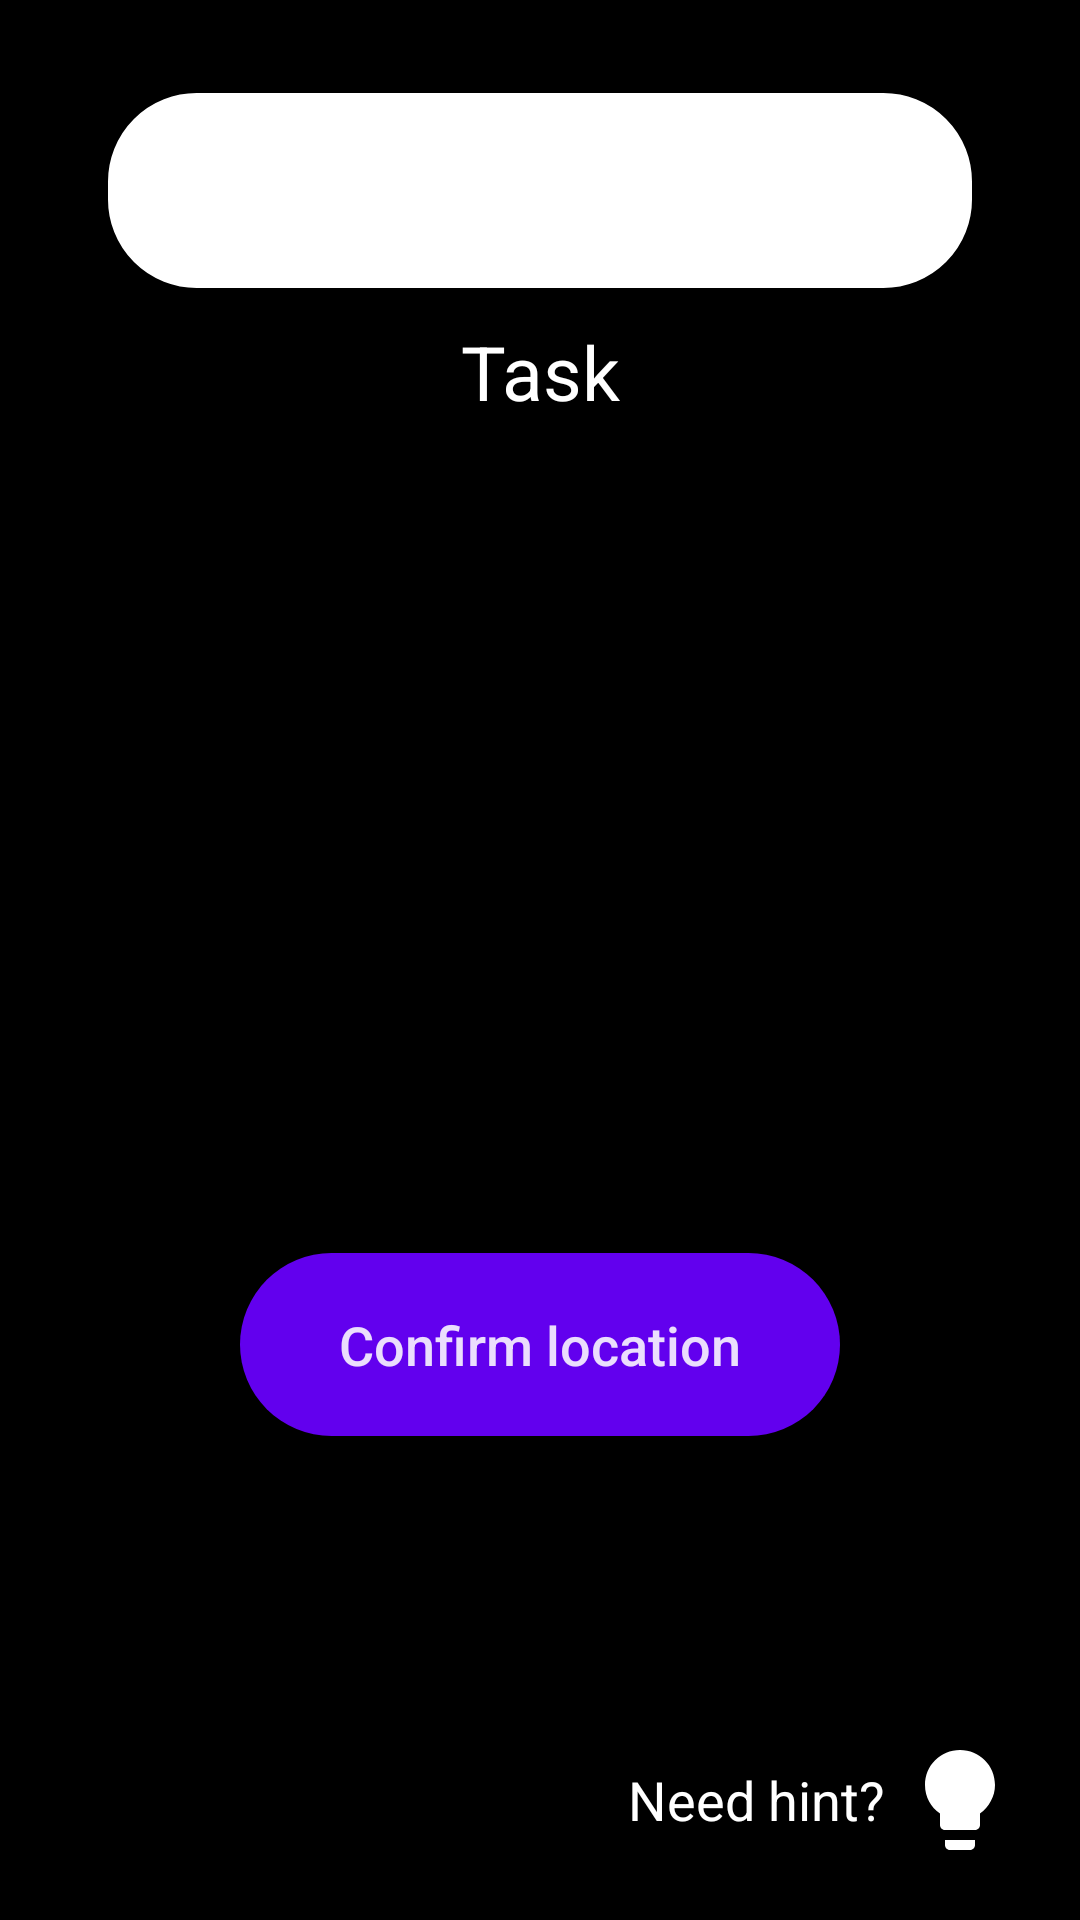

Icon click points for this 1080×1920 phone screenshot, format (x=x, y=y):
lightbulb: (x=960, y=1800)
